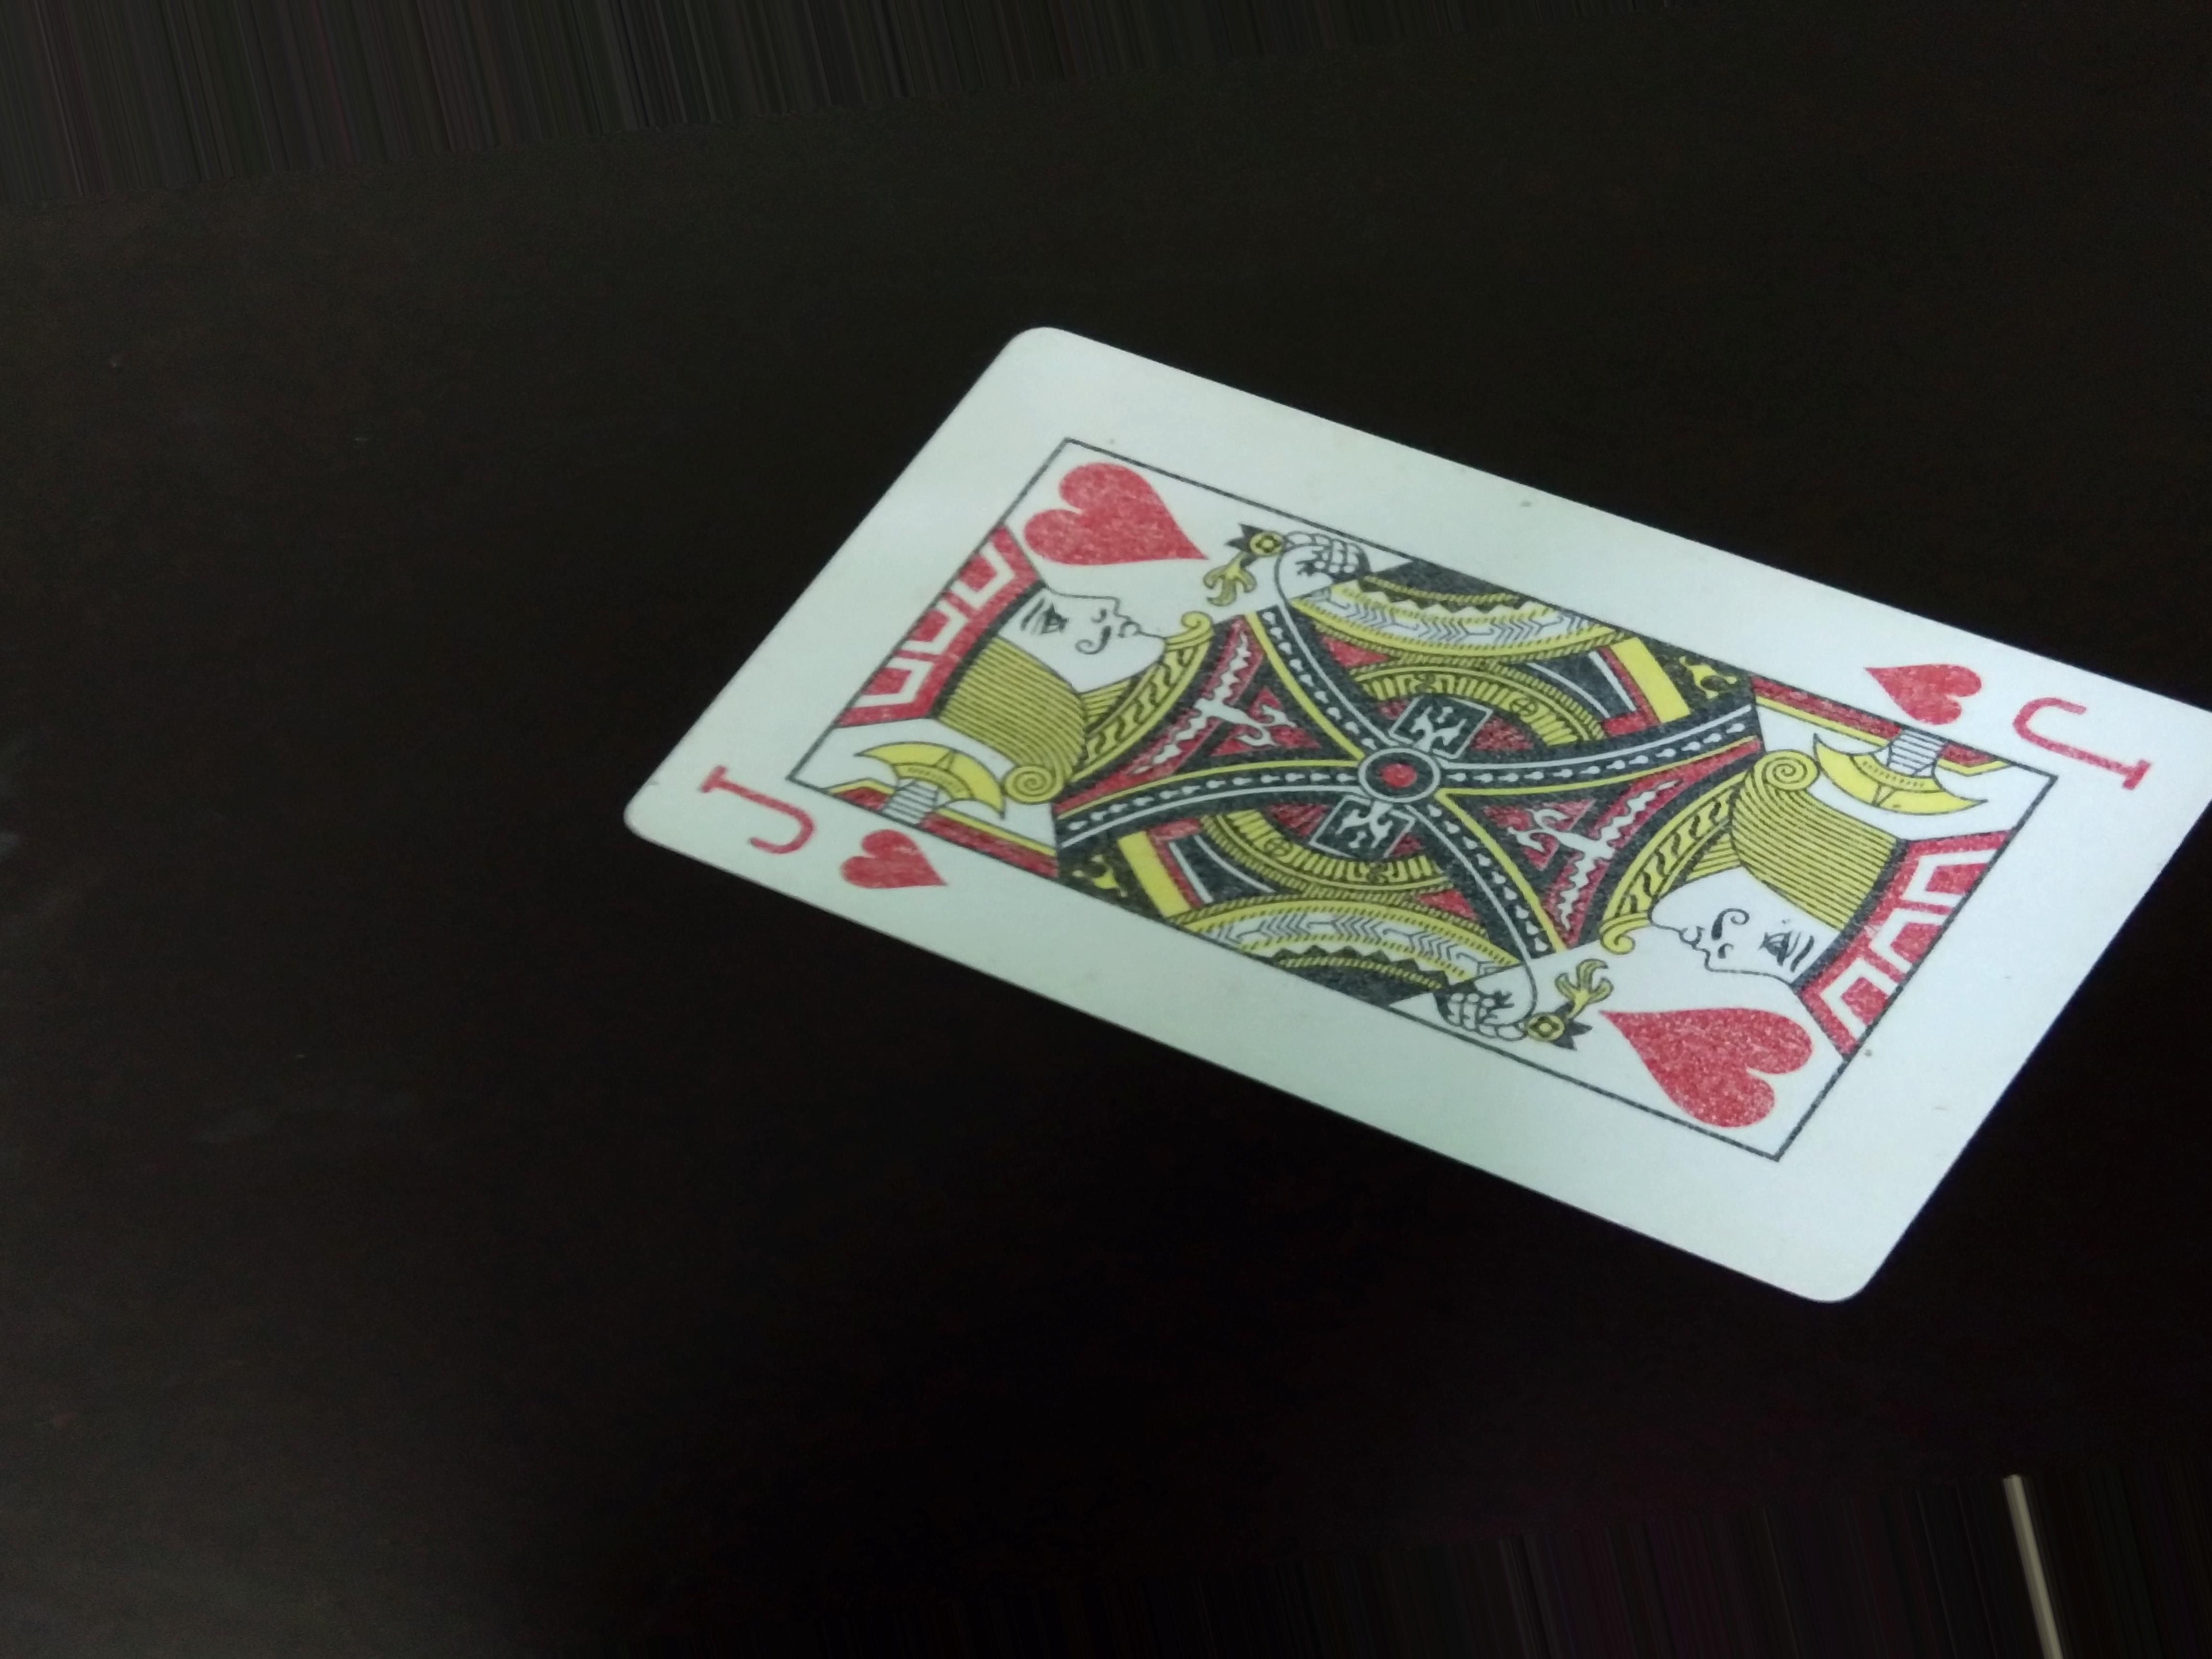JH: (1851, 634, 2182, 795)
